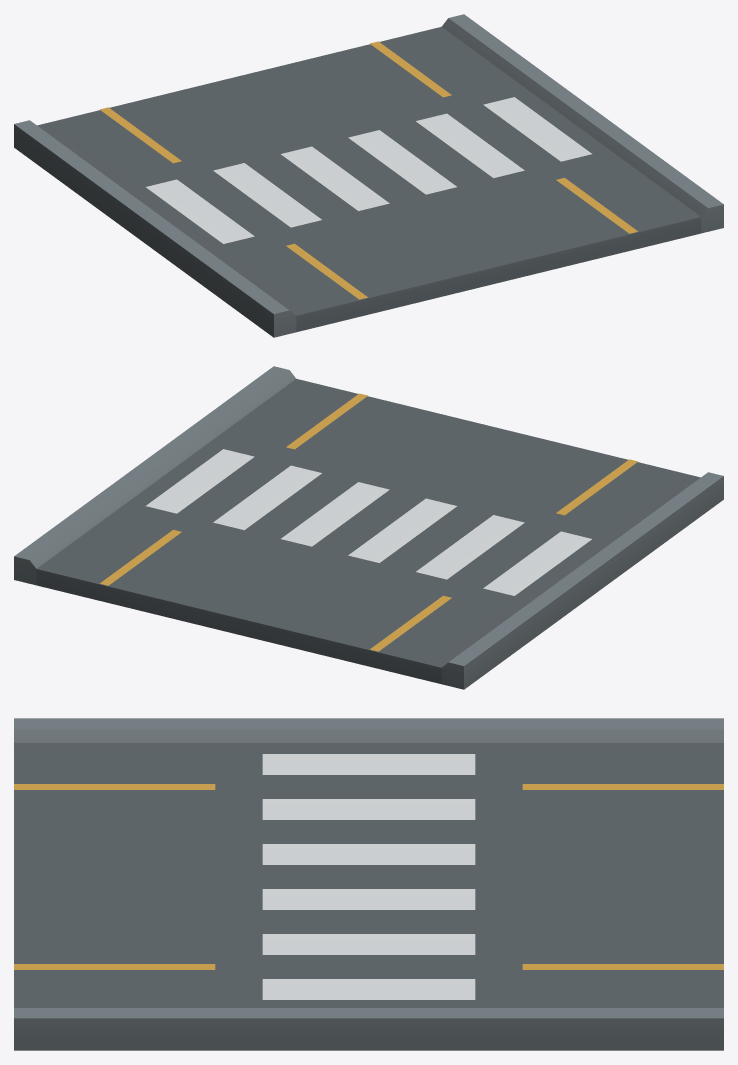
The model's file is road-crossing.glb.
3 views of the same model, one above another, from view 1: azimuth 30°, elevation 25°; view 2: azimuth 150°, elevation 25°; view 3: azimuth 270°, elevation 25° (orthographic). The views are drawn at different scales.
Visible parts, largest first — view 1: road_straight_crossing; view 2: road_straight_crossing; view 3: road_straight_crossing.
Boxes of the visible parts, x1,y1,x2,y2 form: road_straight_crossing: [14, 14, 723, 337]; road_straight_crossing: [14, 366, 723, 689]; road_straight_crossing: [14, 718, 723, 1050].
Bounding box in the file's own units: 2 × 0.1 × 2.
1 material, 1 textured.
